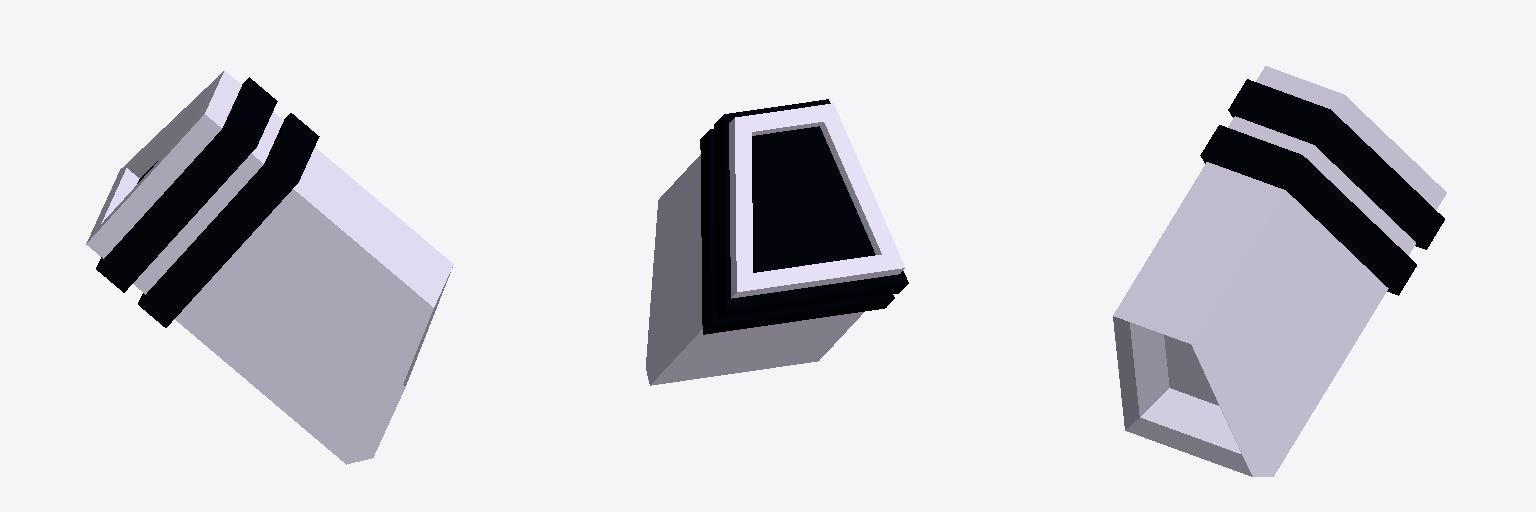
Rendered from junk1.obj.
3 views of the same model, side by side, from view 1: azimuth 30°, elevation 25°; view 2: azimuth 150°, elevation 25°; view 3: azimuth 270°, elevation 25° (orthographic).
Visible parts, largest first — view 1: Ship_2.001_Cube.000; view 2: Ship_2.001_Cube.000; view 3: Ship_2.001_Cube.000.
Part boxes in pixels (x1,y1,x2,y2): Ship_2.001_Cube.000: (86,70,453,464); Ship_2.001_Cube.000: (646,99,908,385); Ship_2.001_Cube.000: (1113,66,1446,476).
Size of the model in its own units: 3.58 by 3.6 by 3.37.